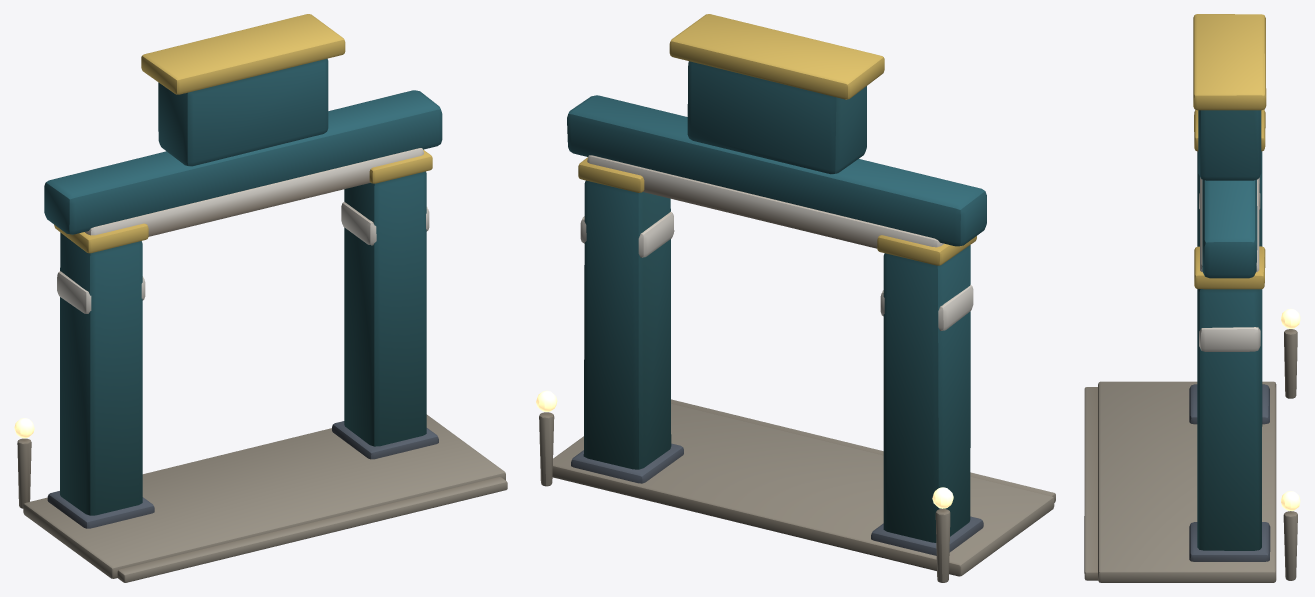
3 renders of one model, left to right at view 1: azimuth 30°, elevation 25°; view 2: azimuth 150°, elevation 25°; view 3: azimuth 270°, elevation 25°, orthographic. The views are drawn at different scales.
Visible parts, largest first — view 1: gate_0459964c; view 2: gate_0459964c; view 3: gate_0459964c.
Part boxes in pixels (x1,y1,x2,y2): gate_0459964c: (14,14,507,582); gate_0459964c: (536,14,1055,582); gate_0459964c: (1084,14,1300,582).
Size of the model in its own units: 5.34 by 5.65 by 2.54.
